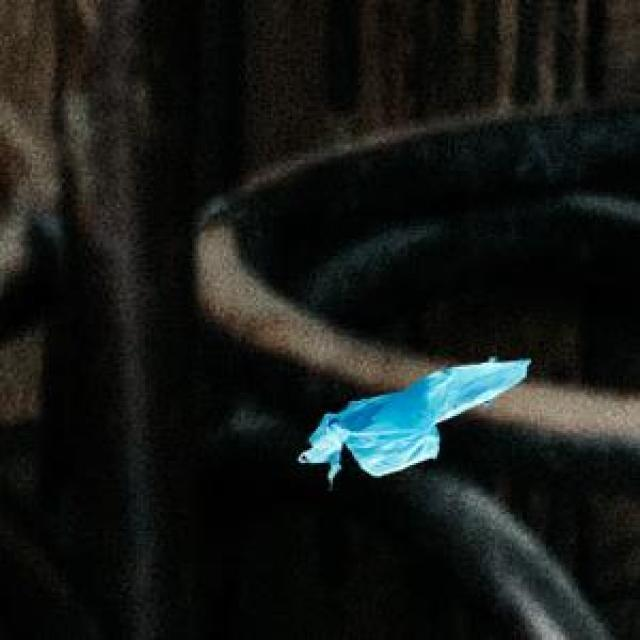waste: (299, 361, 530, 484)
